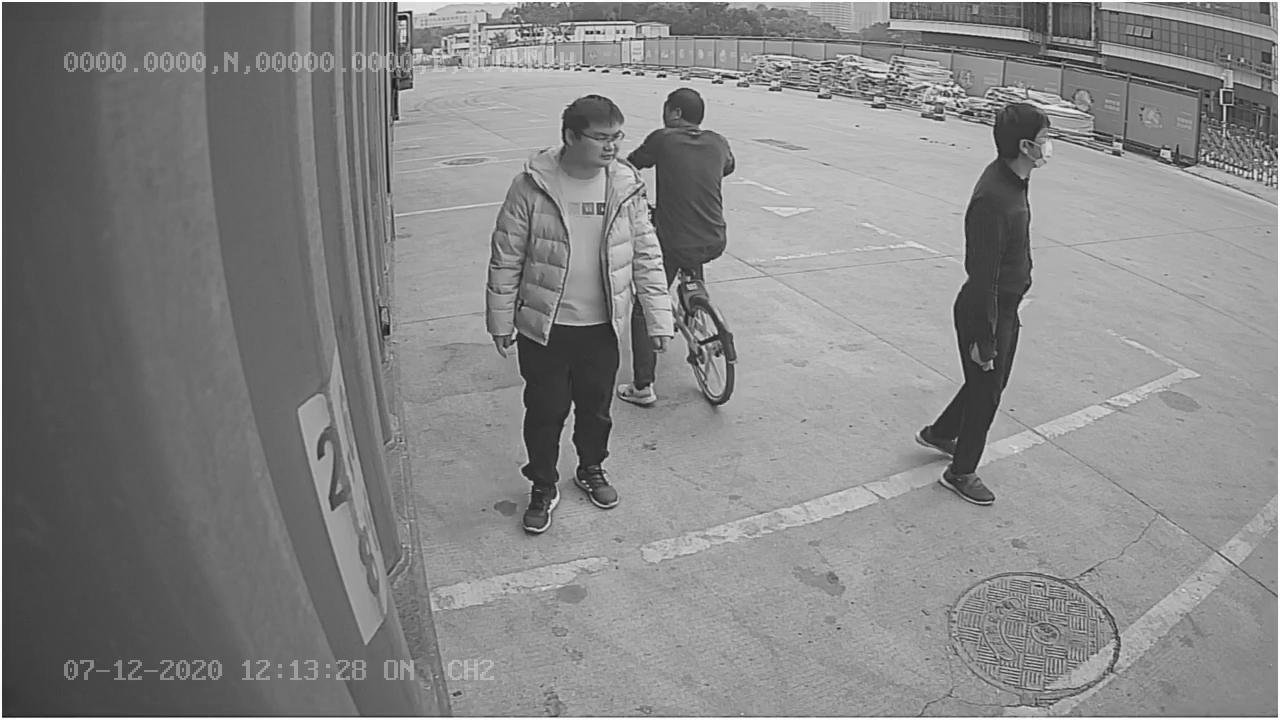person: (914, 89, 1057, 506)
